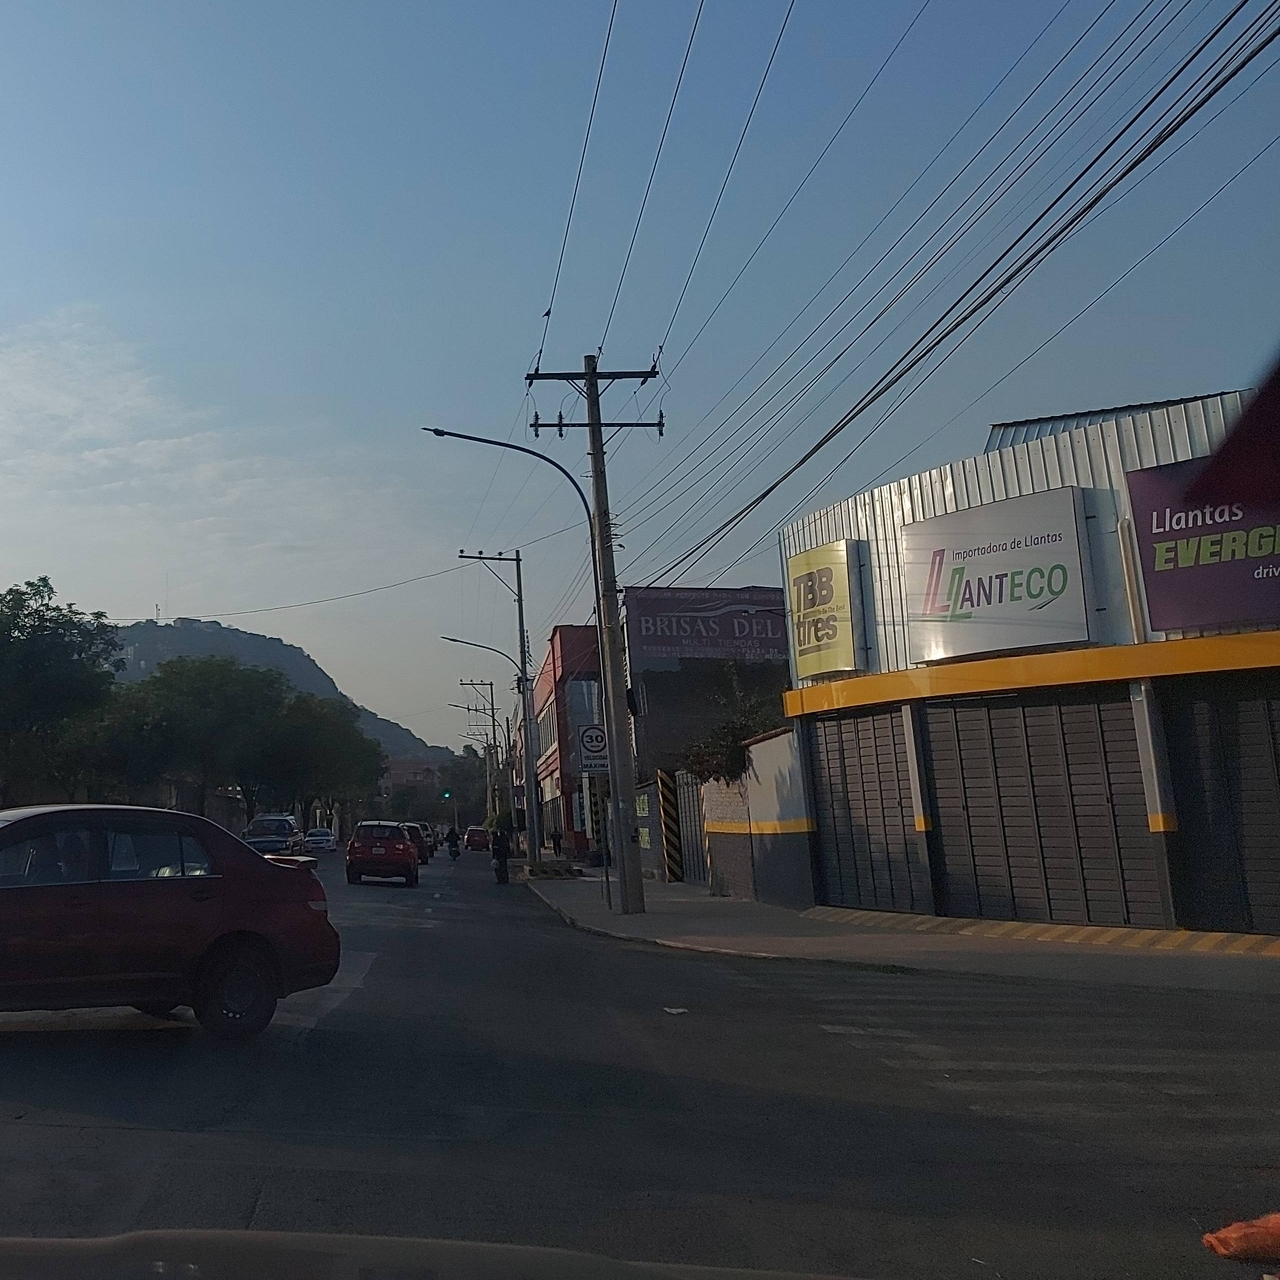limite-velocidad-30: (577, 721, 610, 771)
